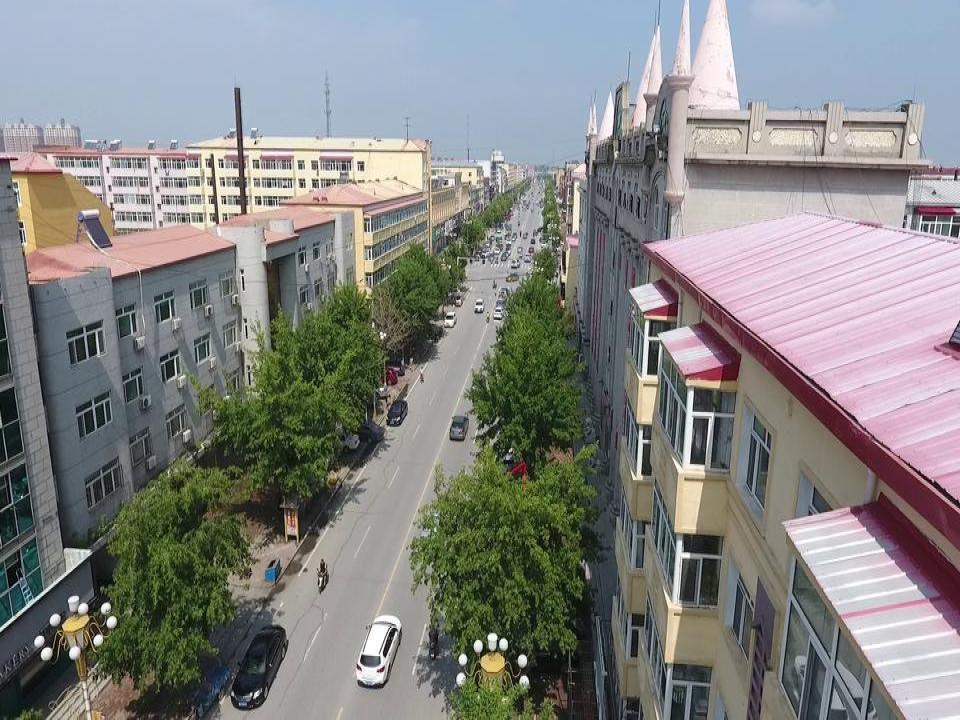car: (230, 623, 289, 709), (354, 612, 405, 687), (419, 501, 470, 544), (302, 417, 361, 452), (327, 412, 383, 448), (343, 372, 387, 404), (351, 361, 397, 387), (491, 425, 517, 464), (359, 357, 405, 377), (447, 412, 469, 440), (386, 398, 407, 426)
